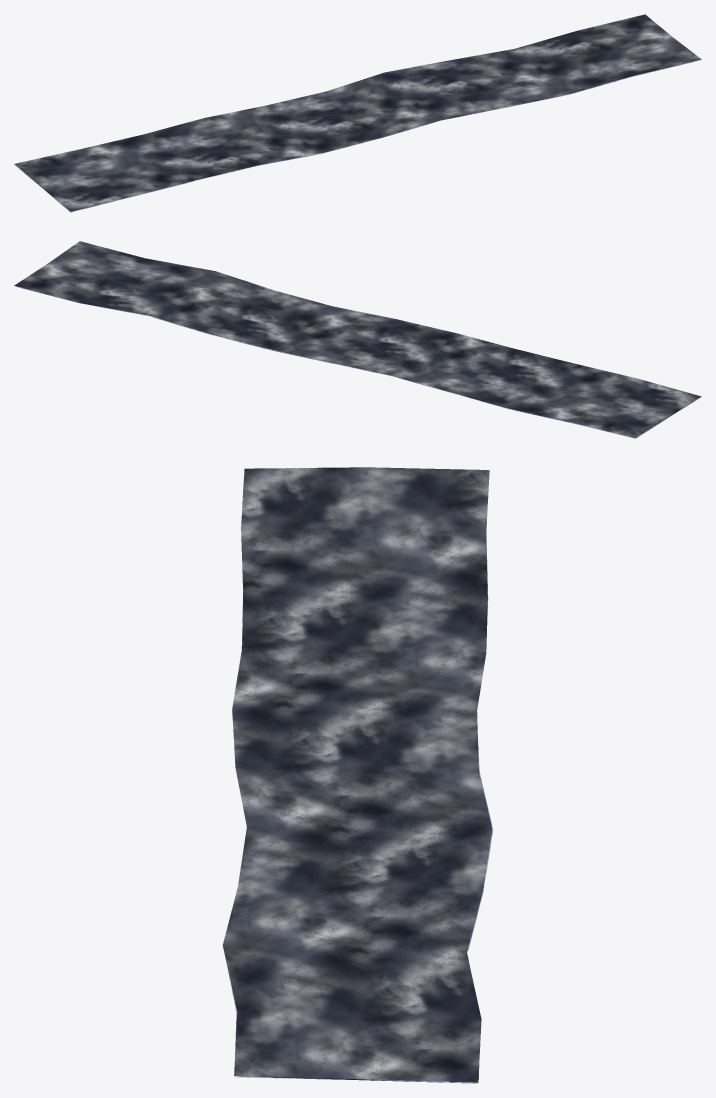
The model's file is LONE_MOUNTAIN_WATERFALLS_MAIN_WATER_COOLER05.fbx.
3 renders of one model, top to bottom at view 1: azimuth 30°, elevation 25°; view 2: azimuth 150°, elevation 25°; view 3: azimuth 270°, elevation 25°, orthographic. The views are drawn at different scales.
Parts seen in each view (by area): view 1: LONE_MOUNTAIN_WATERFALLS_MAIN_WATER_COOLER05; view 2: LONE_MOUNTAIN_WATERFALLS_MAIN_WATER_COOLER05; view 3: LONE_MOUNTAIN_WATERFALLS_MAIN_WATER_COOLER05.
Part boxes in pixels (x1,y1,x2,y2): LONE_MOUNTAIN_WATERFALLS_MAIN_WATER_COOLER05: [14, 14, 701, 212]; LONE_MOUNTAIN_WATERFALLS_MAIN_WATER_COOLER05: [14, 241, 701, 438]; LONE_MOUNTAIN_WATERFALLS_MAIN_WATER_COOLER05: [222, 467, 493, 1083].
Bounding box in the file's own units: 164246 × 1043 × 30574.
Materials: 2 (2 with a texture image).
